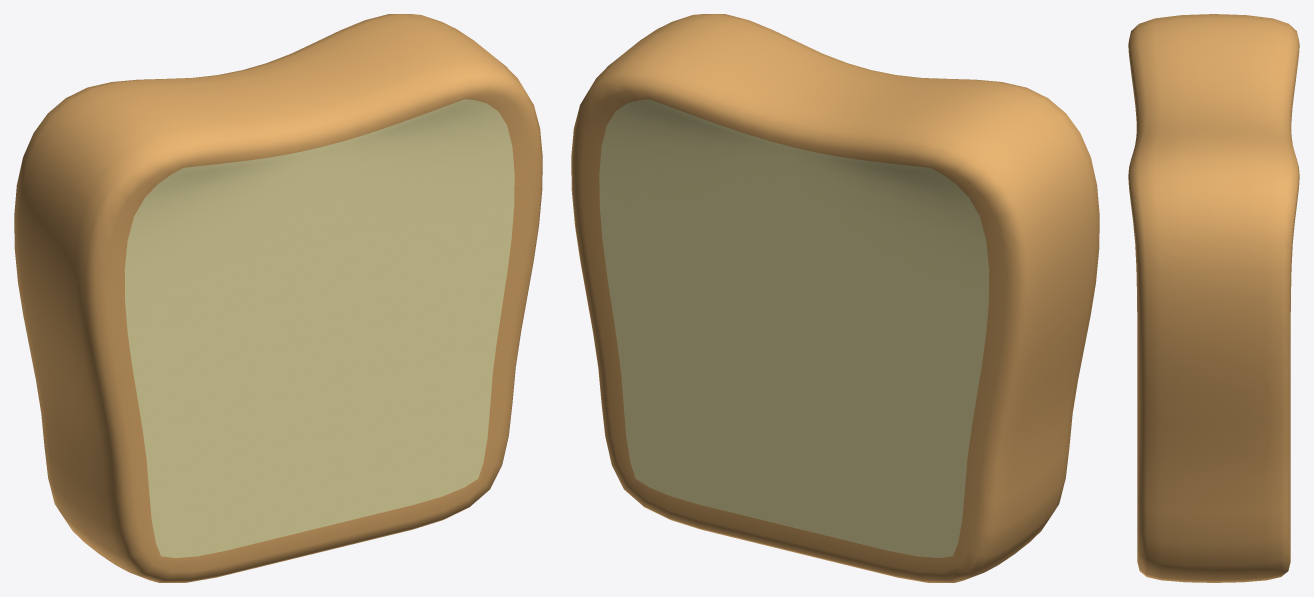
File: bread 1.fbx
The picture shows the model from 3 angles, left to right: view 1: azimuth 30°, elevation 25°; view 2: azimuth 150°, elevation 25°; view 3: azimuth 270°, elevation 25°; orthographic projection. The views are drawn at different scales.
Visible parts, largest first — view 1: bread7; view 2: bread7; view 3: bread7.
Boxes of the visible parts, box(x1,y1,x2,y2) form: bread7: box(14, 14, 542, 582); bread7: box(571, 14, 1099, 582); bread7: box(1128, 14, 1299, 582).
Size of the model in its own units: 44.59 by 42.26 by 15.23.
2 materials, 2 textured.
